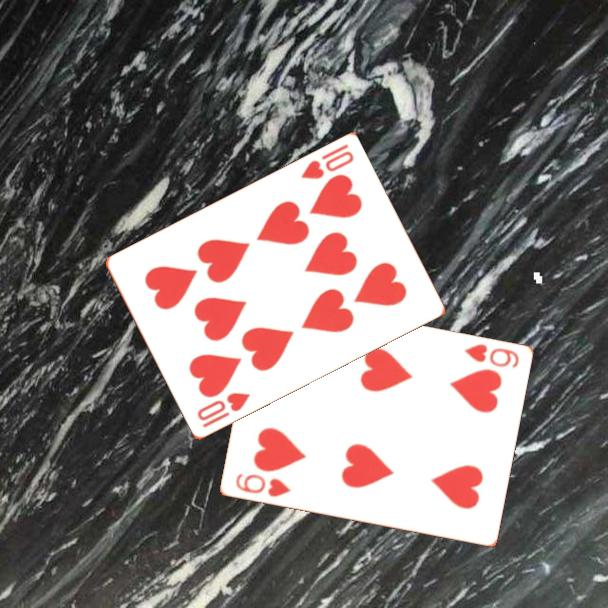h06: (232, 470, 293, 500), (460, 341, 521, 371)
h10: (193, 389, 253, 431), (298, 141, 357, 183)
